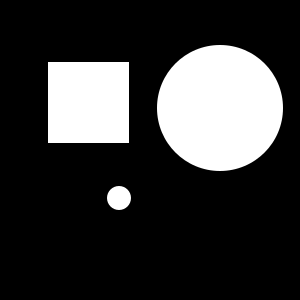circle: (48, 62, 129, 143)
rectangle: (157, 45, 283, 171), (107, 186, 131, 210)
